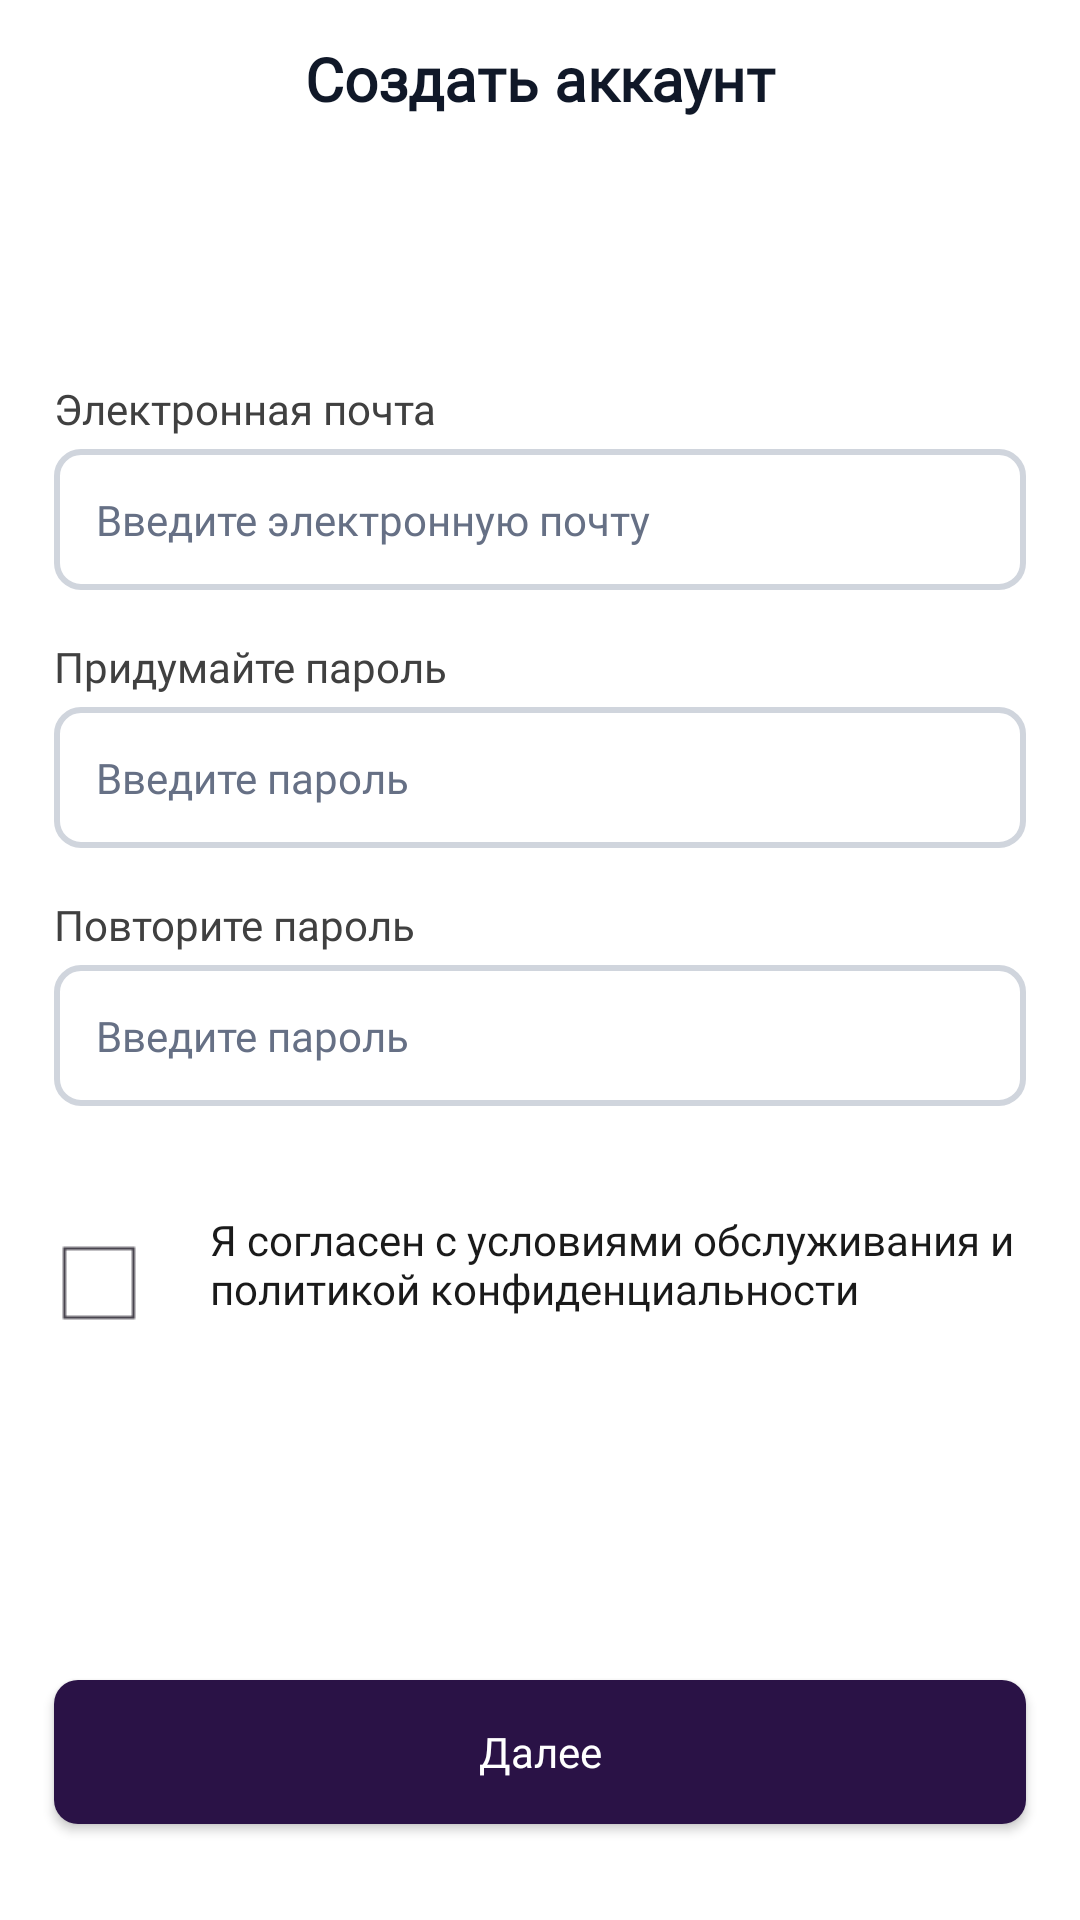

Where icons sit on this 1080x1920 app screen, as (x1, y1, x2, y2):
checkbox: (62, 1246, 136, 1320)
